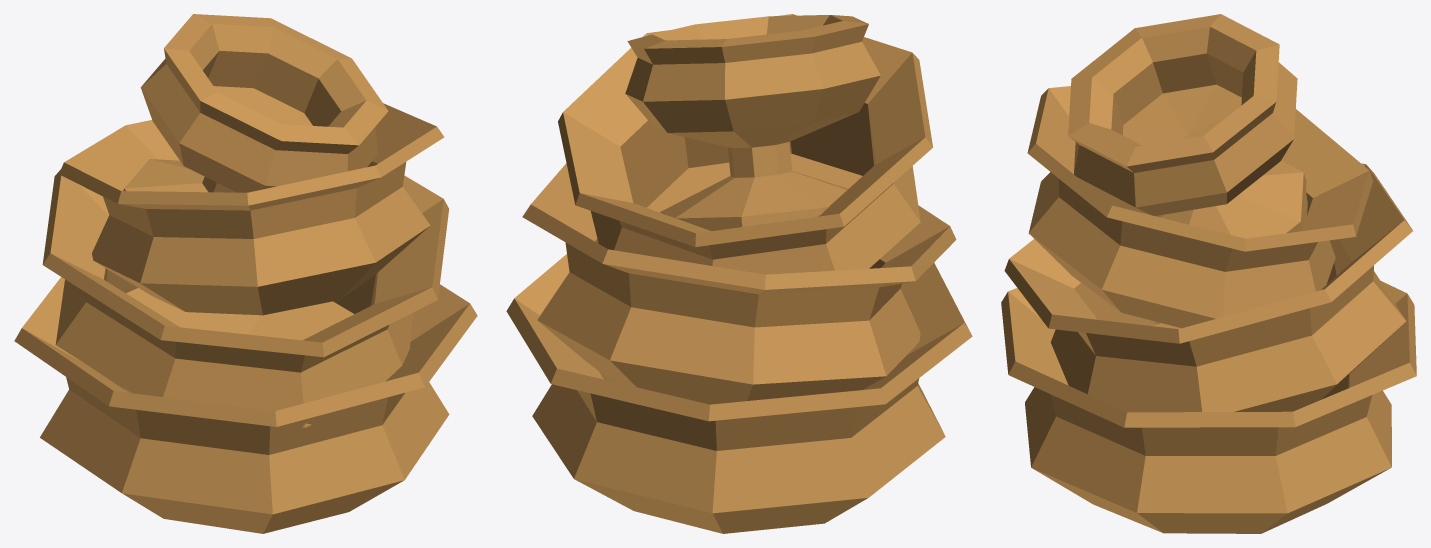
The model's file is SM_Prop_Gold_Plates_Preset_04.glb.
The picture shows the model from 3 angles, left to right: view 1: azimuth 30°, elevation 25°; view 2: azimuth 150°, elevation 25°; view 3: azimuth 270°, elevation 25°; orthographic projection. The views are drawn at different scales.
Parts seen in each view (by area): view 1: SM_Prop_Gold_Plates_Preset_04; view 2: SM_Prop_Gold_Plates_Preset_04; view 3: SM_Prop_Gold_Plates_Preset_04.
Boxes of the visible parts, left/top/right/bottom form: SM_Prop_Gold_Plates_Preset_04: left=14, top=14, right=477, bottom=533; SM_Prop_Gold_Plates_Preset_04: left=506, top=14, right=972, bottom=533; SM_Prop_Gold_Plates_Preset_04: left=1001, top=14, right=1416, bottom=533.
Size of the model in its own units: 0.7529 by 0.859 by 0.7454.
Materials: 1 (1 with a texture image).
